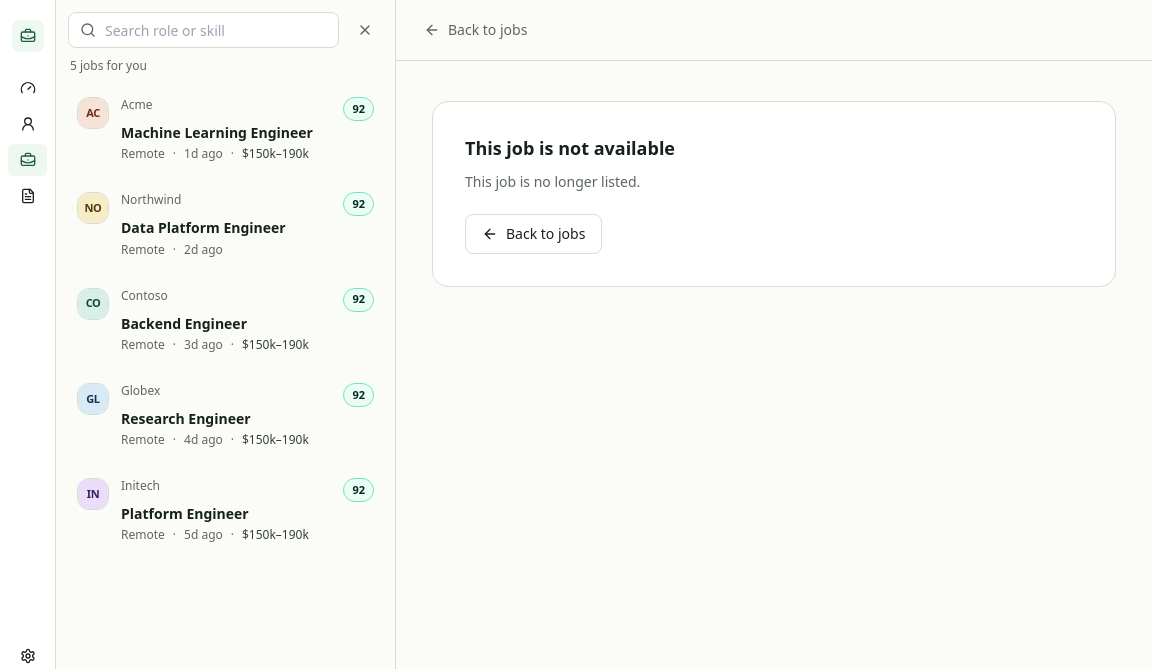
Scenario: Jobs workspace › fails gracefully for a job that no longer exists
Check: the heading "This job is not available" is shown, box top-left (465, 136), bottom-right (675, 160)
Check: the text "This job is no longer listed." is shown, box top-left (465, 172), bottom-right (640, 191)
Step 1. Click the button "Back to jobs" below "This job is no longer listed." → (534, 234), box top-left (465, 214), bottom-right (602, 254)
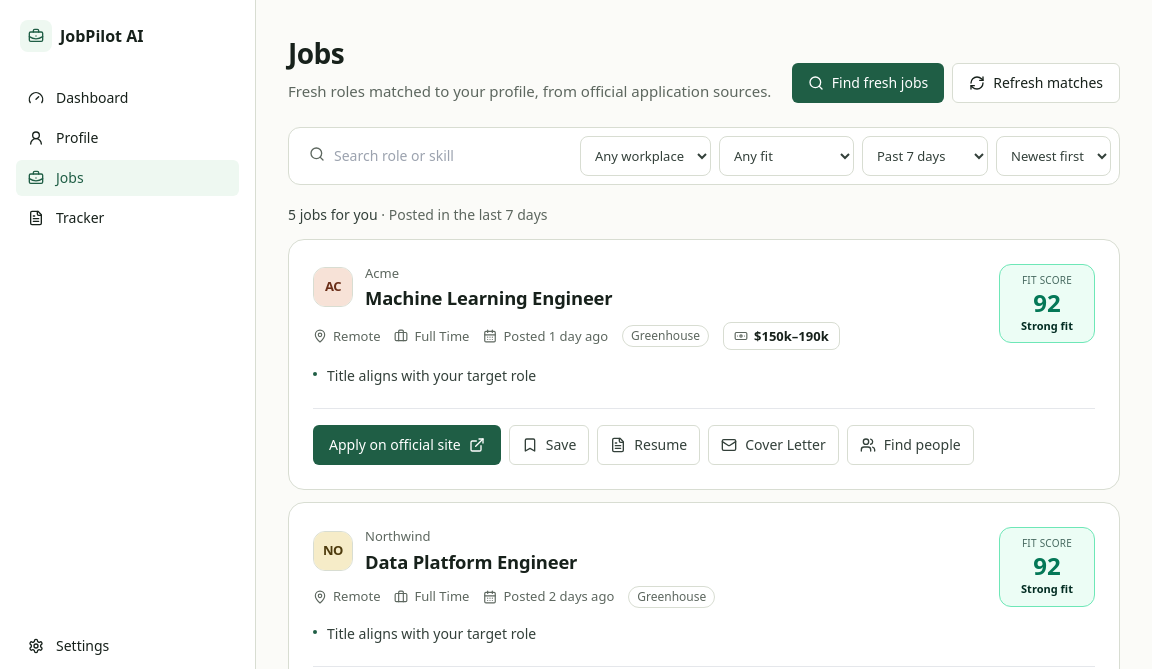
Check: the heading "Jobs" is shown, box top-left (288, 34), bottom-right (344, 72)
